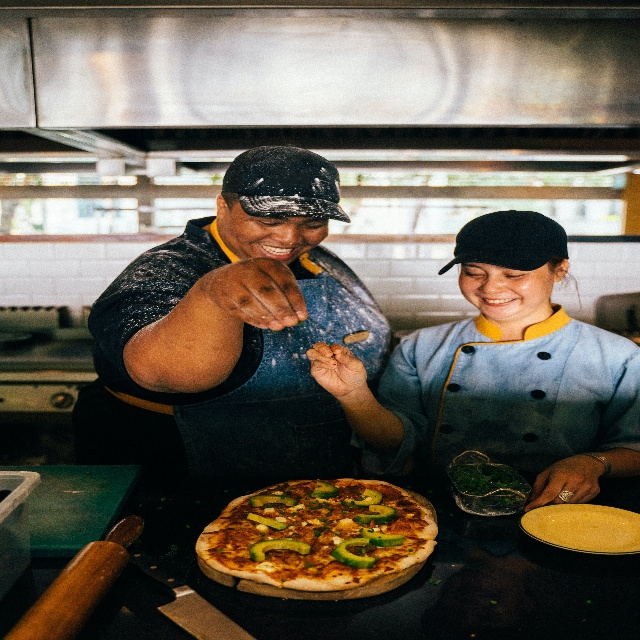Sin_guantes: (199, 256, 308, 332), (523, 452, 601, 513), (306, 338, 367, 399)
